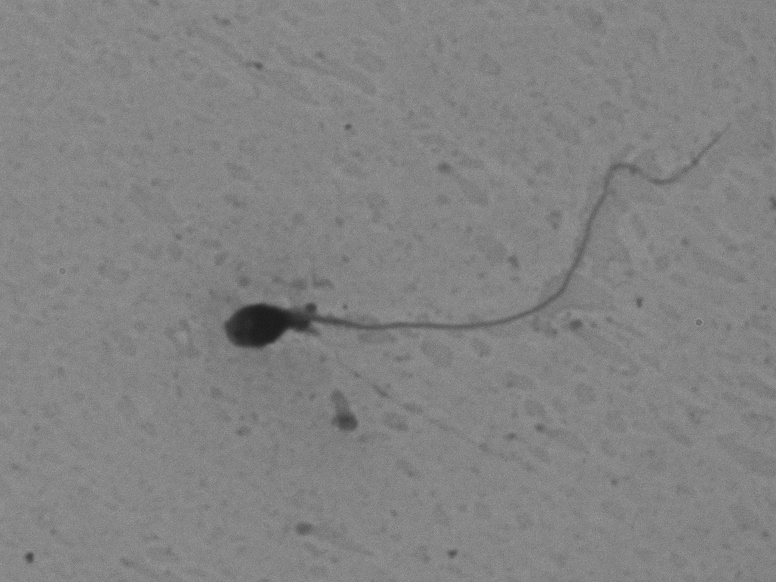Abnormal: (158, 98, 746, 391)
